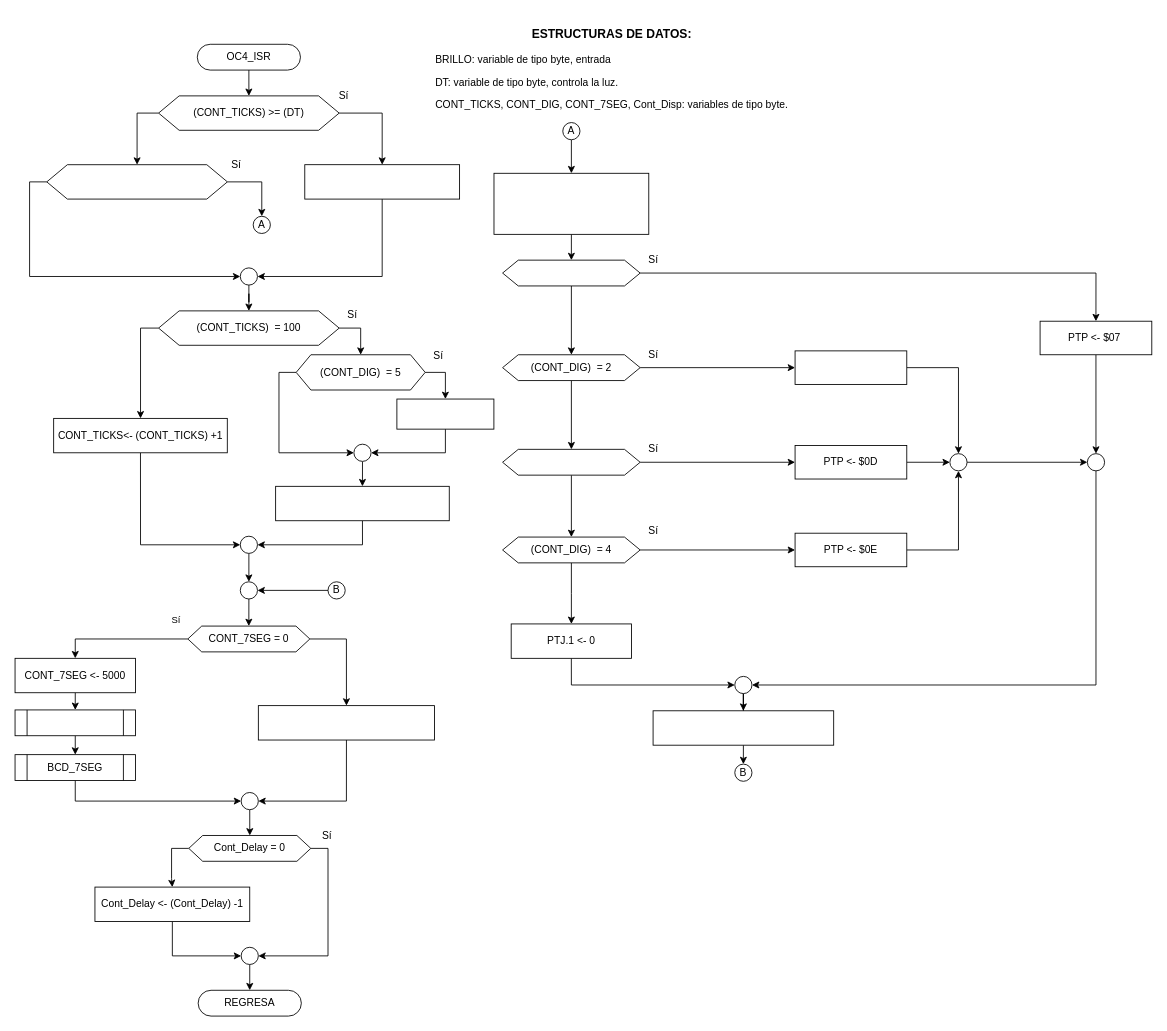
Image size: 1167x1031. Some labels were removed from this diagram. Here are the shapes that lost their labels. From the top down, the centre of each, then its label:
At [136,181]: "(CONT_TICKS) = 0".
At [382,181]: "PTP <- $FF PORTB <- $00".
At [571,203]: "J <- DISP1 PORTB <- ((J) + (CONT_DIG)) PTJ.1 <- 1".
At [571,272]: "(CONT_DIG) = 1".
At [850,367]: "PTP <- $0B".
At [445,413]: "CONT_DIG <- 0".
At [571,461]: "(CONT_DIG) = 3".
At [362,503]: "CONT_DIG <- (CONT_DIG) +1 CONT_TICKS<- 0".
At [74,722]: "CONV_BIN_BCD".
At [346,722]: "CONT_7SEG <- ( CONT_7SEG ) - 1".
At [743,727]: "CONT_TICKS <- (CONT_TICKS) +1".
